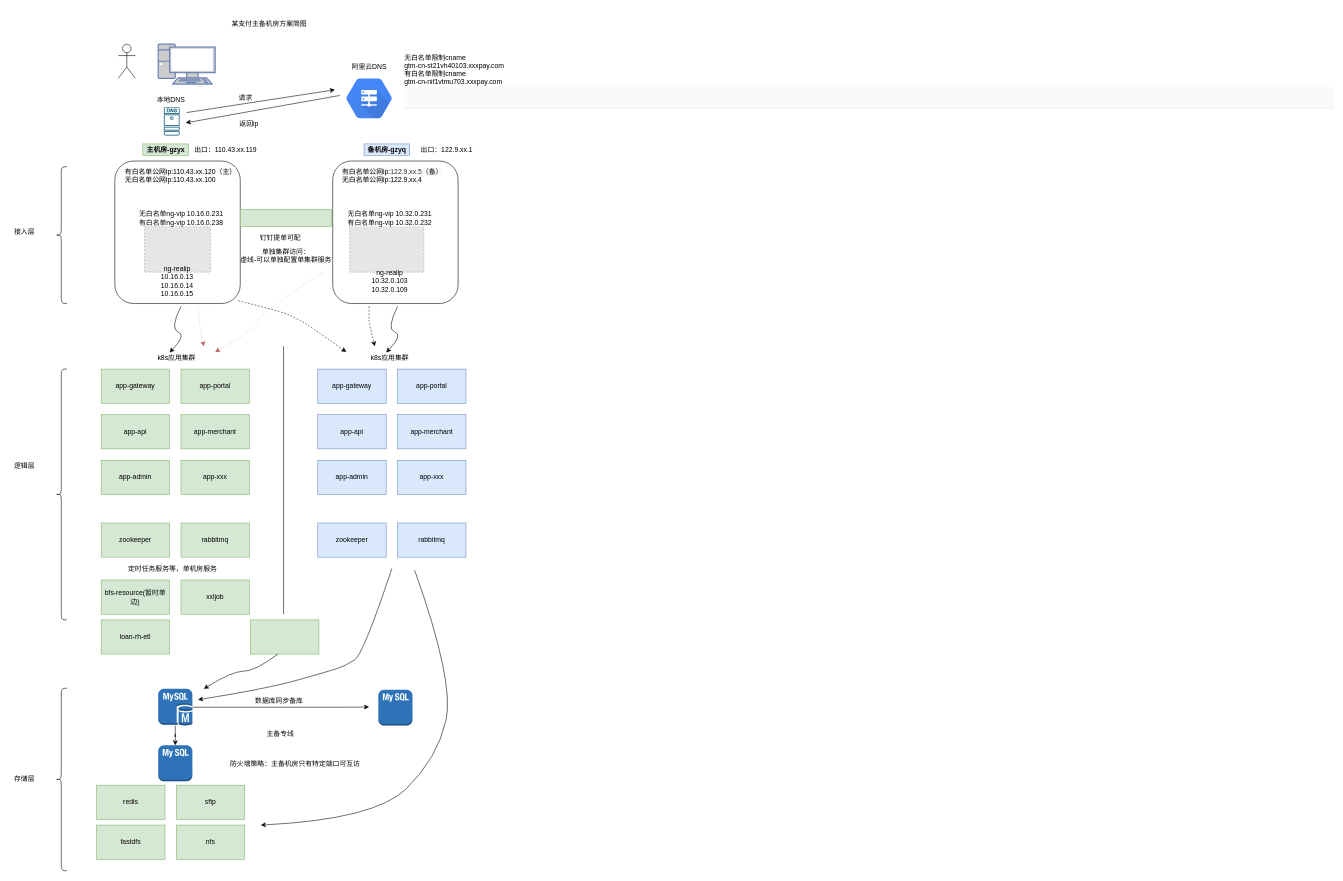
This 1343x881 diagram has some shape labels left out. Grey dashed boxes stand in for pictures. The box of each missing label's shape, as (x1, y1, x2, y2) in pixels:
Actor: (118, 44, 135, 78)
apollo 数据库: (250, 619, 319, 654)
www.xxxpay.com: (157, 43, 215, 84)
正常访问： 实线-主备7：3各自访问集群: (240, 209, 331, 227)
